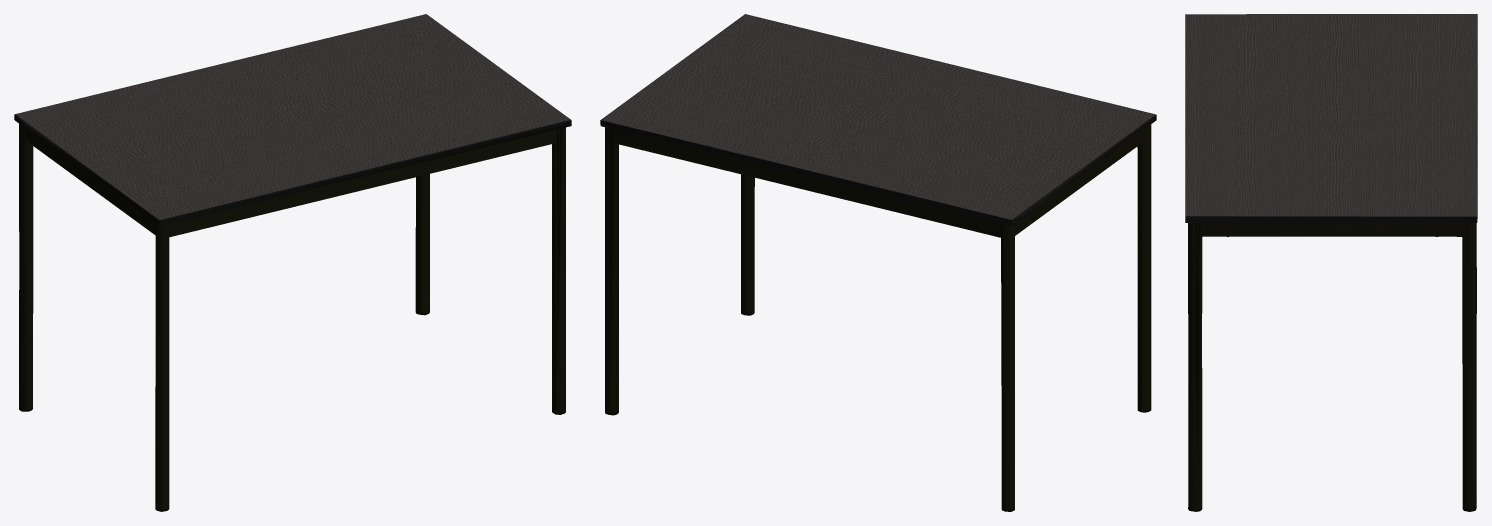
Rendered from sandsberg-table-black-s29420393.glb.
3 views of the same model, side by side, from view 1: azimuth 30°, elevation 25°; view 2: azimuth 150°, elevation 25°; view 3: azimuth 270°, elevation 25° (orthographic).
Parts seen in each view (by area): view 1: ProcessedMeshNode; view 2: ProcessedMeshNode; view 3: ProcessedMeshNode.
Boxes of the visible parts, x1,y1,x2,y2 form: ProcessedMeshNode: (14,14,571,511); ProcessedMeshNode: (600,14,1156,511); ProcessedMeshNode: (1185,14,1477,511).
Size of the model in its own units: 1.1 by 0.7512 by 0.6716.
1 material, 1 textured.
